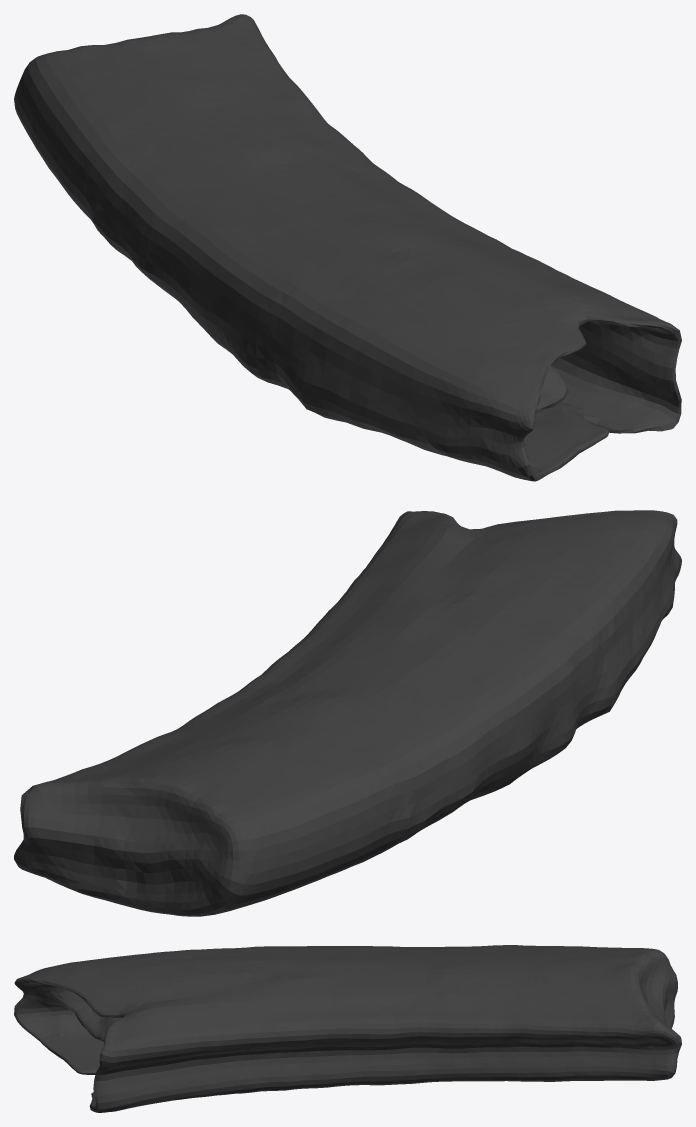
The model's file is tooth_rabbit_209_low.glb.
3 views of the same model, one above another, from view 1: azimuth 30°, elevation 25°; view 2: azimuth 150°, elevation 25°; view 3: azimuth 270°, elevation 25° (orthographic). The views are drawn at different scales.
Visible parts, largest first — view 1: tooth_rabbit_209_low; view 2: tooth_rabbit_209_low; view 3: tooth_rabbit_209_low.
Part boxes in pixels (left/top/right/bottom): tooth_rabbit_209_low: left=14, top=14, right=681, bottom=481; tooth_rabbit_209_low: left=14, top=510, right=681, bottom=916; tooth_rabbit_209_low: left=14, top=945, right=681, bottom=1112.
Size of the model in its own units: 0.5201 by 0.2482 by 1.44.
1 material, 1 textured.
